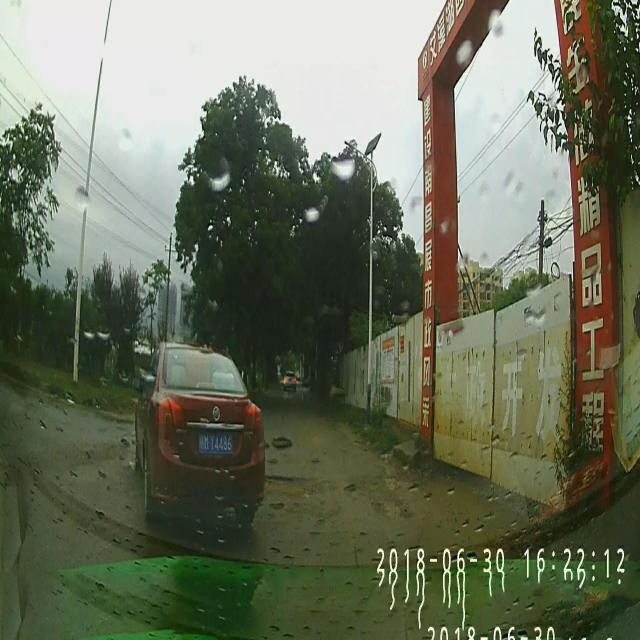car: (134, 343, 264, 524), (282, 368, 297, 394)
